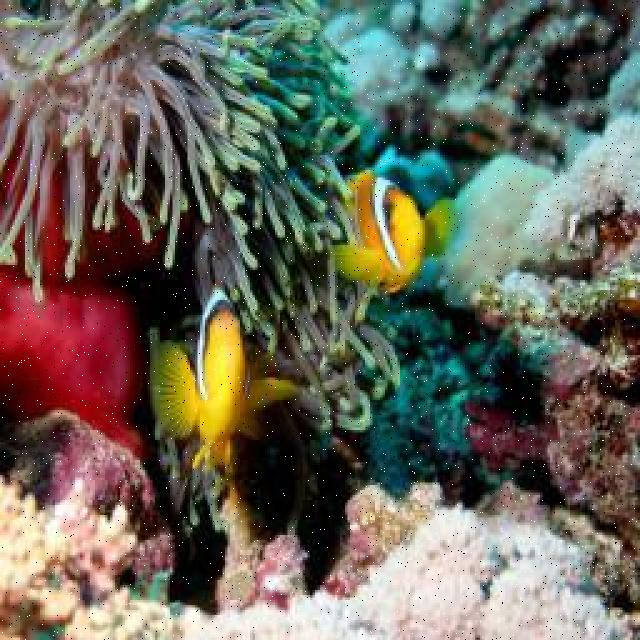fish: (154, 277, 300, 470), (334, 174, 462, 294)
reefs: (0, 0, 401, 431), (170, 509, 632, 638), (1, 155, 169, 485), (0, 475, 81, 638)
